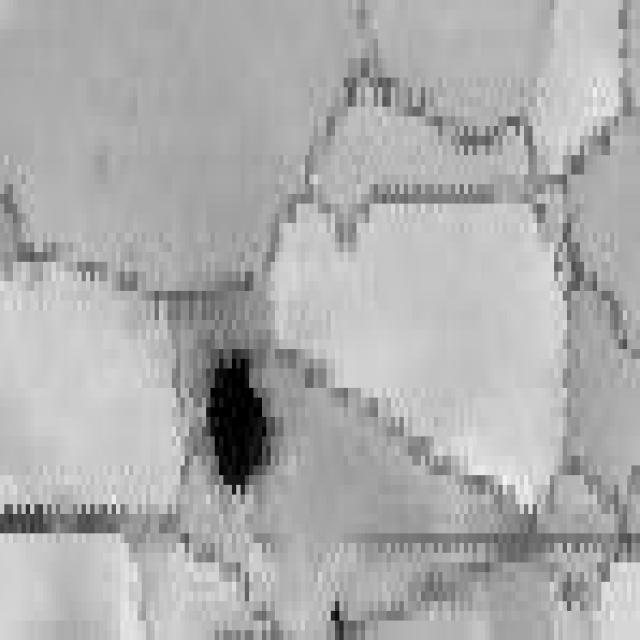good_void: (200, 336, 282, 507)
